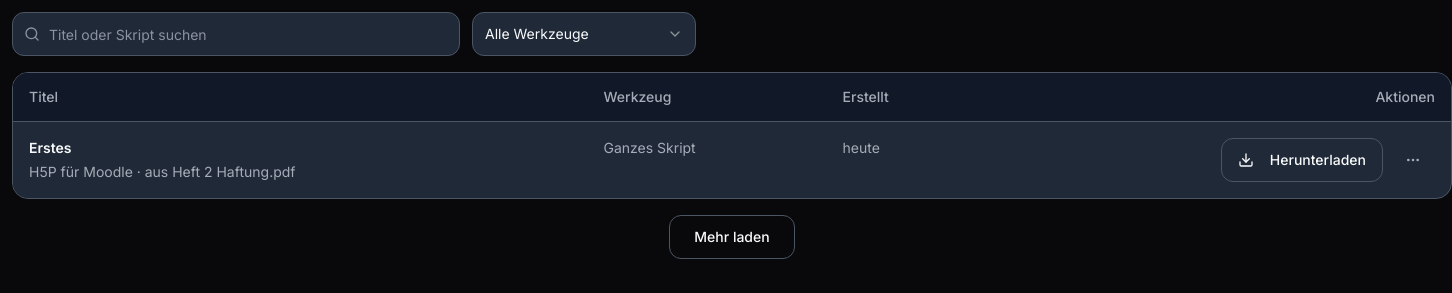
Test: Meine Materialien (PROJ-52) › lädt mit „Mehr laden“ die nächste Seite nach
Click the button "Mehr laden" at (732, 236), box [669,214,795,258]
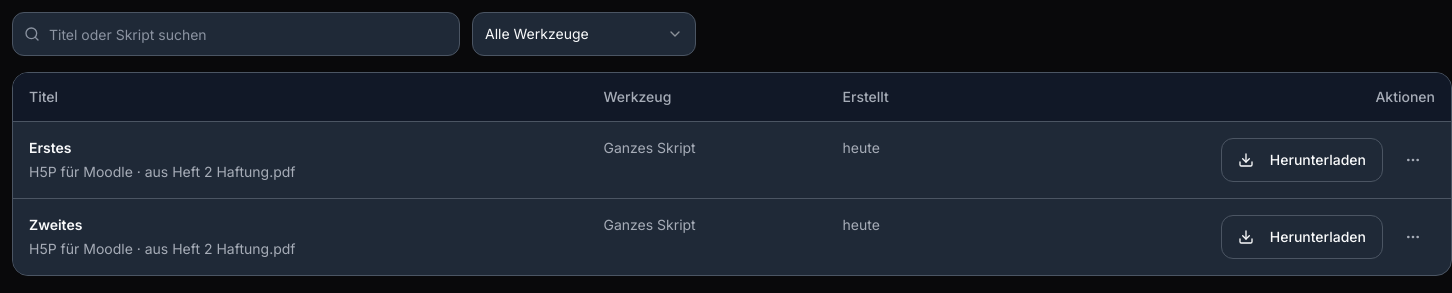
Expected: the text "Erstes" is shown, [29,138,72,158]
Expected: the button "Mehr laden" is gone
